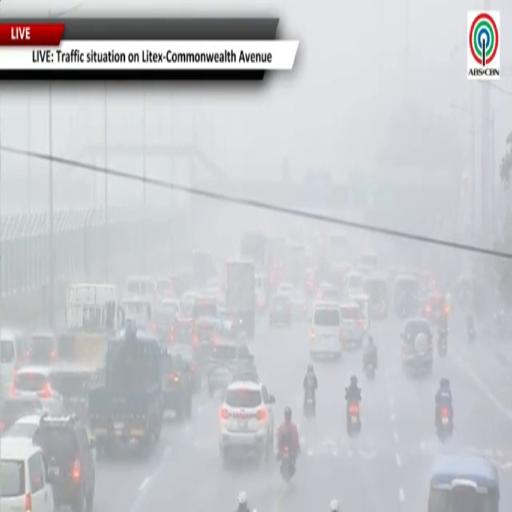car: (33, 415, 95, 511), (220, 377, 275, 462), (0, 439, 55, 511), (51, 362, 105, 419), (203, 341, 250, 396), (11, 366, 62, 413), (163, 349, 193, 420), (0, 329, 28, 395), (401, 317, 433, 374), (310, 302, 341, 360), (167, 344, 202, 392), (0, 397, 43, 435), (339, 302, 365, 349), (393, 274, 420, 318), (363, 274, 389, 319), (154, 298, 179, 342), (5, 413, 44, 439), (422, 293, 449, 328), (168, 315, 198, 345), (29, 333, 58, 364), (194, 316, 223, 344), (269, 294, 291, 326), (192, 297, 218, 319), (290, 288, 307, 319), (180, 292, 200, 317), (344, 271, 363, 297), (316, 282, 340, 301), (360, 251, 378, 270), (277, 282, 294, 295)
motorcycle: (437, 406, 452, 442), (280, 445, 294, 482), (347, 402, 360, 436), (304, 393, 315, 418), (438, 331, 447, 357), (364, 363, 375, 379), (468, 327, 475, 342)
truck: (89, 329, 163, 454), (58, 283, 119, 365), (225, 261, 255, 339), (240, 232, 267, 271), (267, 237, 286, 290), (283, 244, 306, 286), (192, 250, 216, 288)
